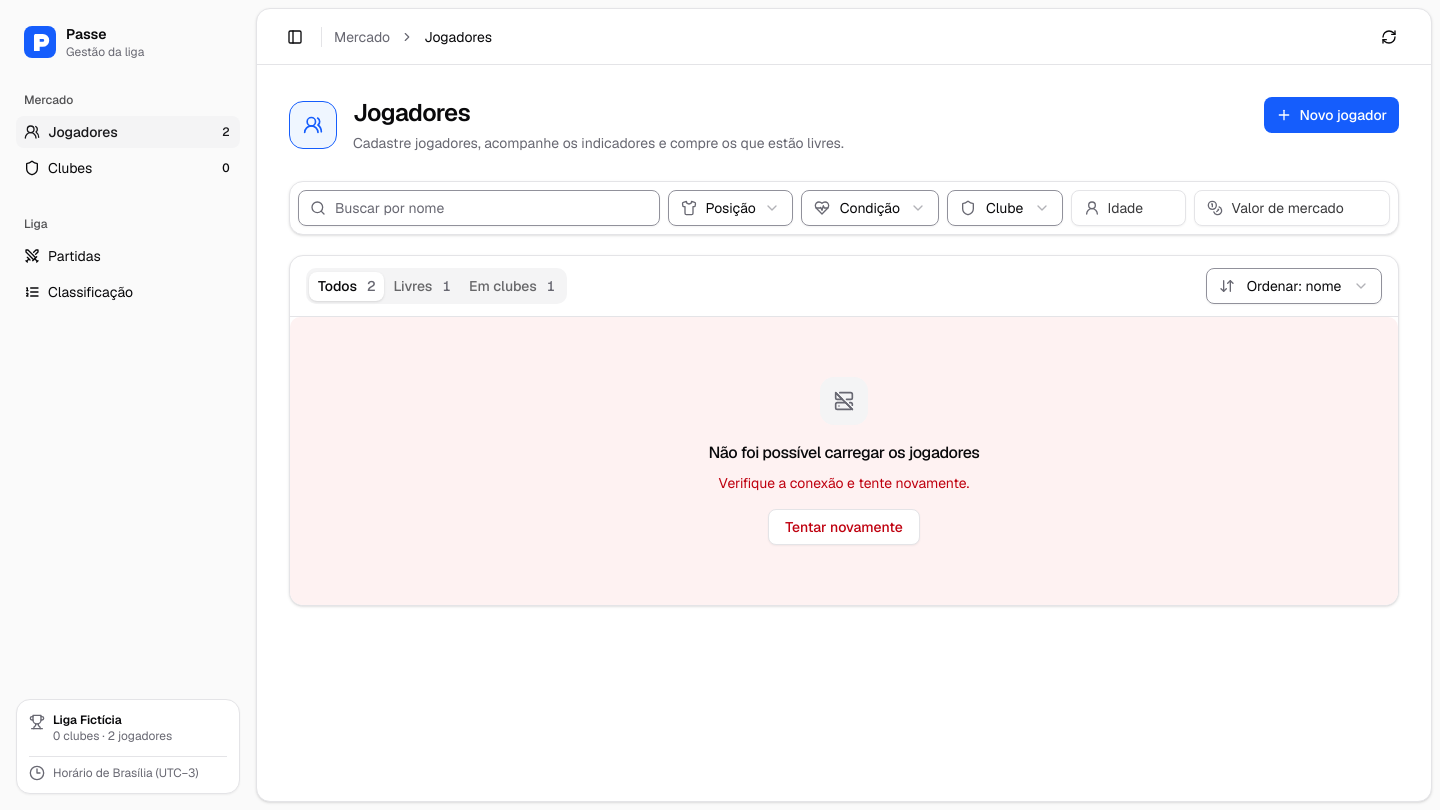
F01 player list screen › retries the club lookup when player data is already loaded
This screenshot has width=1440, height=810.
Expected: the text "Não foi possível carregar os jogadores" is shown, [708,441,980,465]
Expected: the text "Verifique a conexão e tente novamente." is shown, [719,473,969,493]
Click the button "Tentar novamente" at x=844, y=527, box [768,509,920,545]
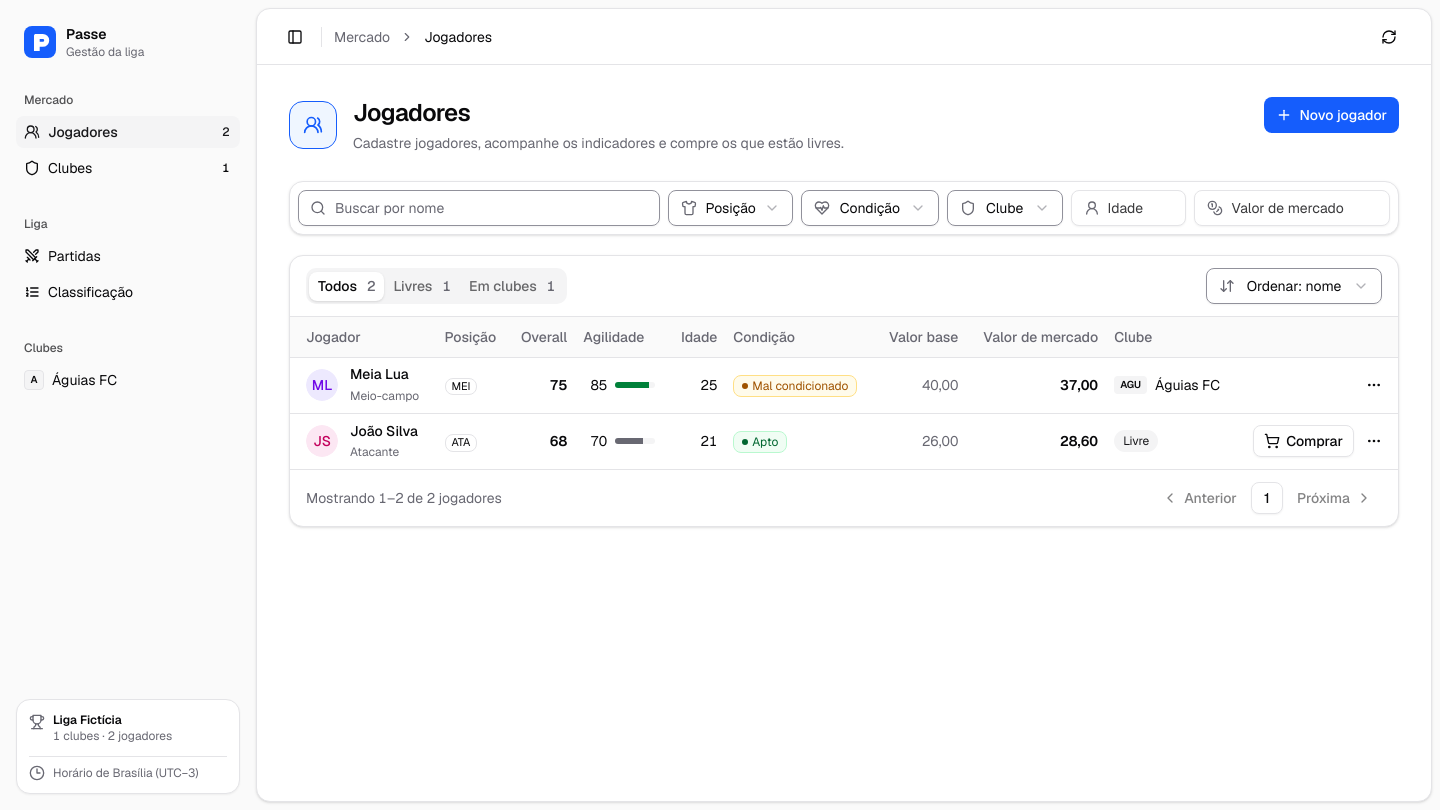
Now the text "Águias FC" next to "AGU" is shown, box [1155,376,1220,394]
Now the text "Livre" is shown, box [1114,430,1158,452]
Now the text "Não foi possível carregar os jogadores" is gone
